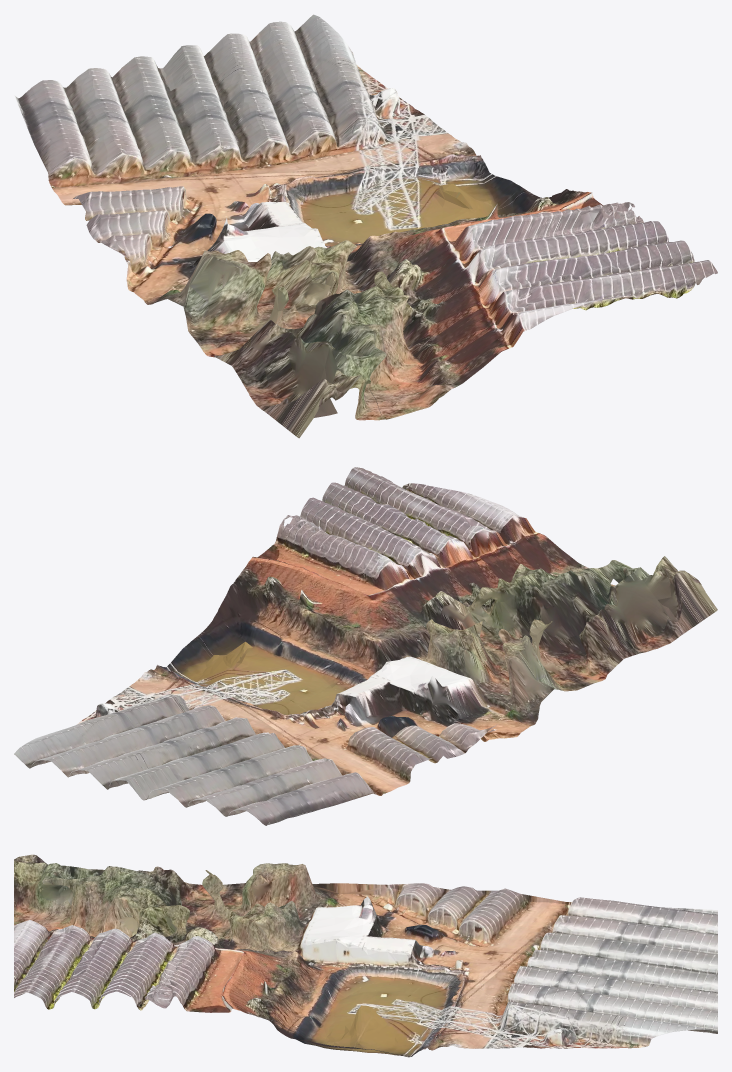
Rendered from BlockBB_L20_167.glb.
3 views of the same model, one above another, from view 1: azimuth 30°, elevation 25°; view 2: azimuth 150°, elevation 25°; view 3: azimuth 270°, elevation 25° (orthographic). The views are drawn at different scales.
Visible parts, largest first — view 1: rtc; view 2: rtc; view 3: rtc.
Boxes of the visible parts, <box> form: rtc: <box>14,14,717,438</box>; rtc: <box>14,467,717,825</box>; rtc: <box>14,854,717,1057</box>.
Size of the model in its own units: 51.19 by 9.75 by 85.63.
Materials: 8 (8 with a texture image).
